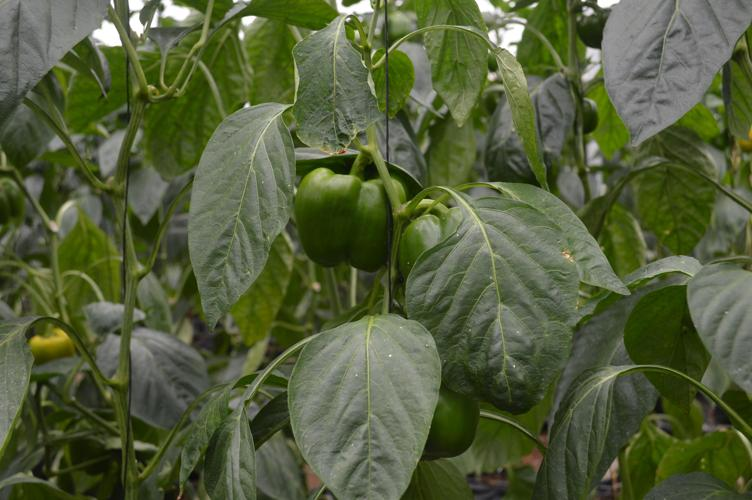BellPepper: (297, 168, 421, 285)
